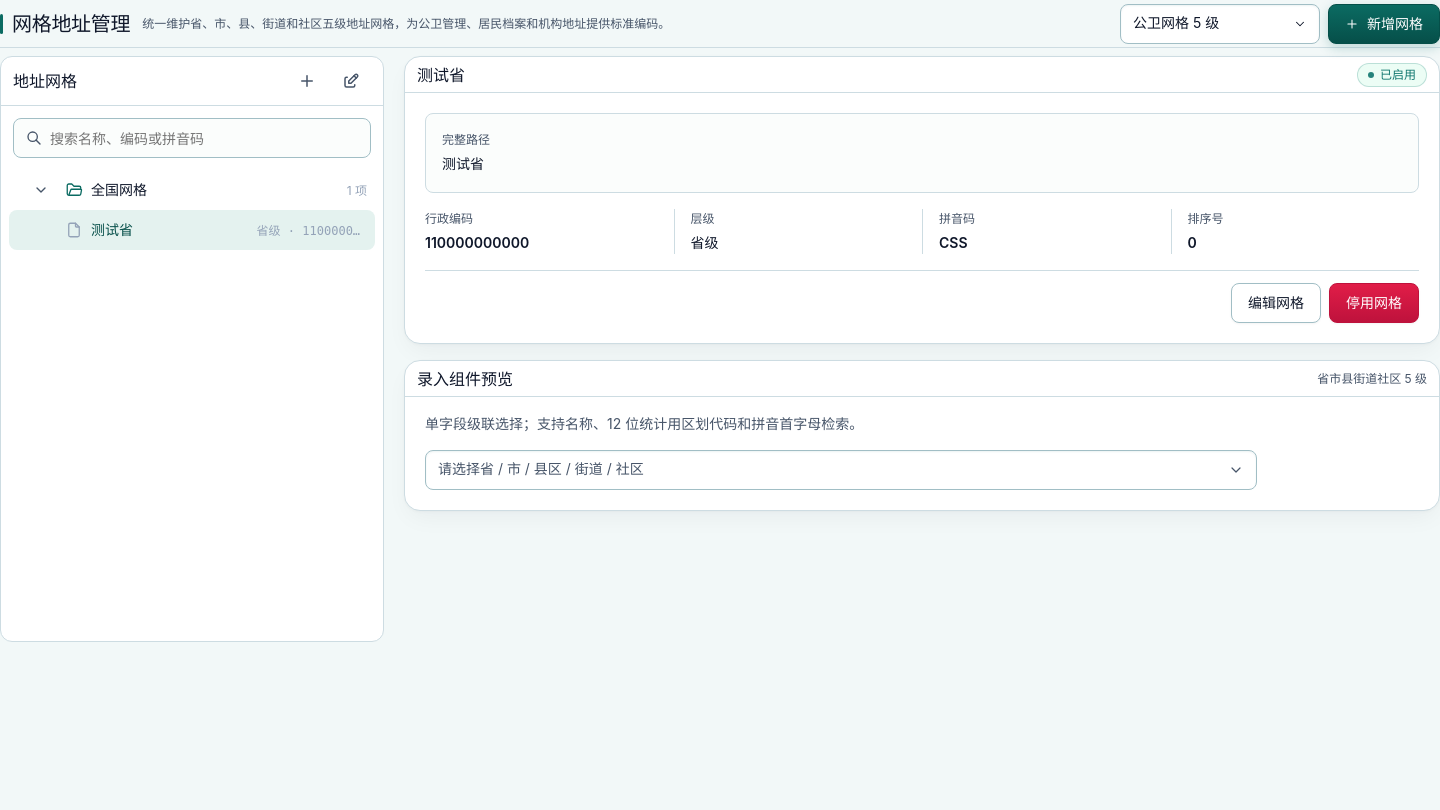
it: grid address management verification › keeps stale update responses unconfirmed and preserves the editor
This screenshot has width=1440, height=810.
Click the button "编辑网格" at coordinates (1276, 303), box [1231, 283, 1321, 323]
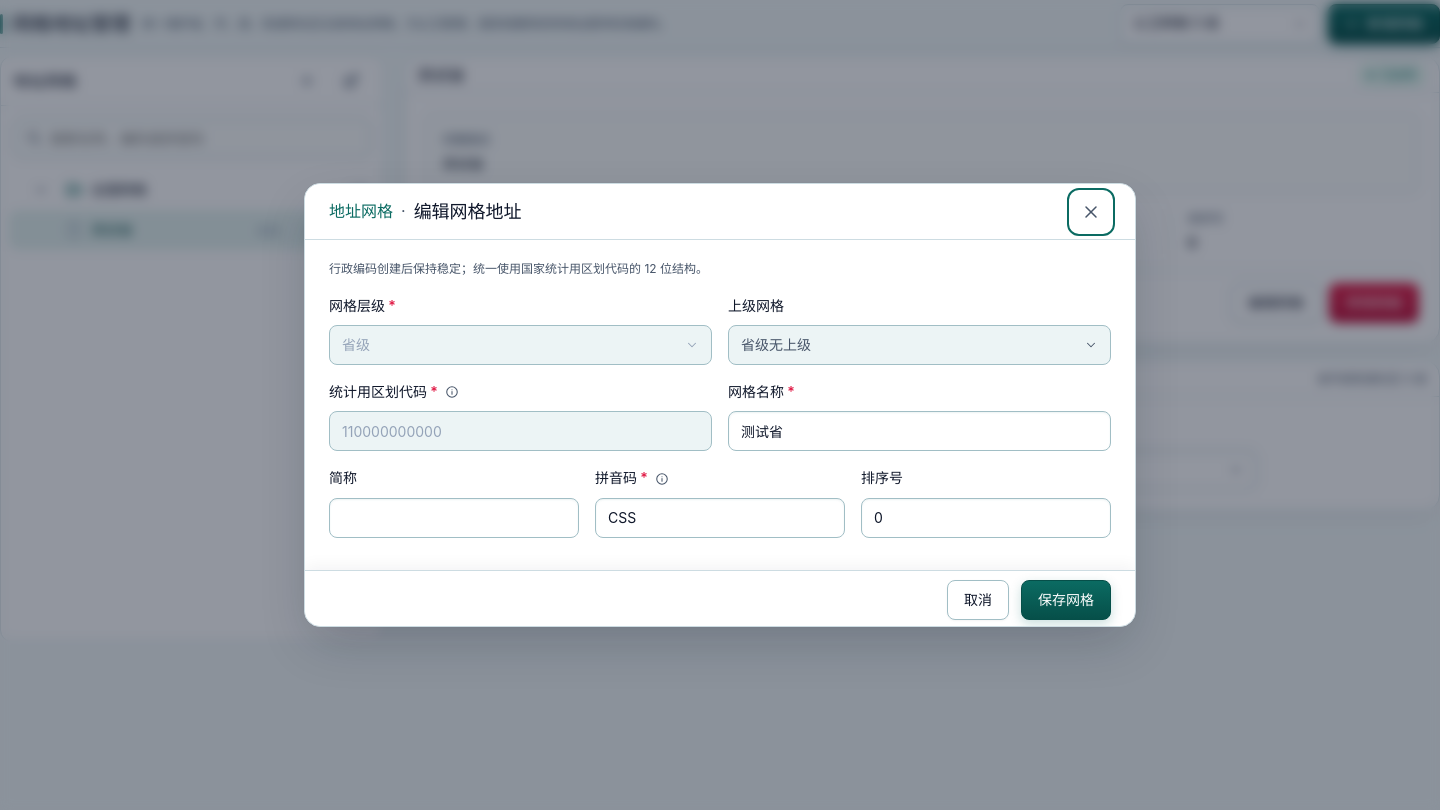
Replace the text in the field labelled "网格名称*" with "草稿省名" at coordinates (920, 432), box [728, 412, 1111, 452]
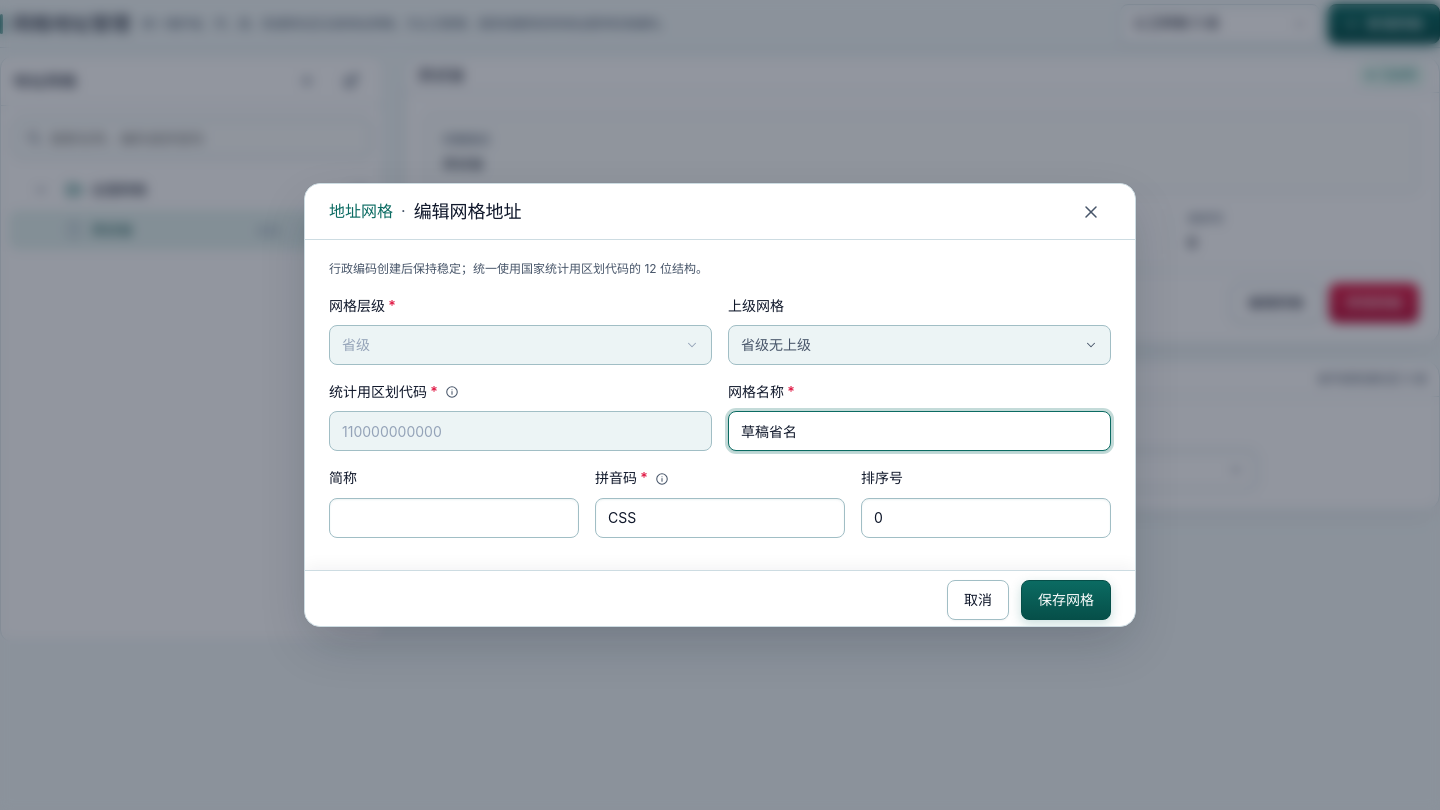
Click the button "保存网格" at coordinates (1066, 600), box [1021, 580, 1111, 620]
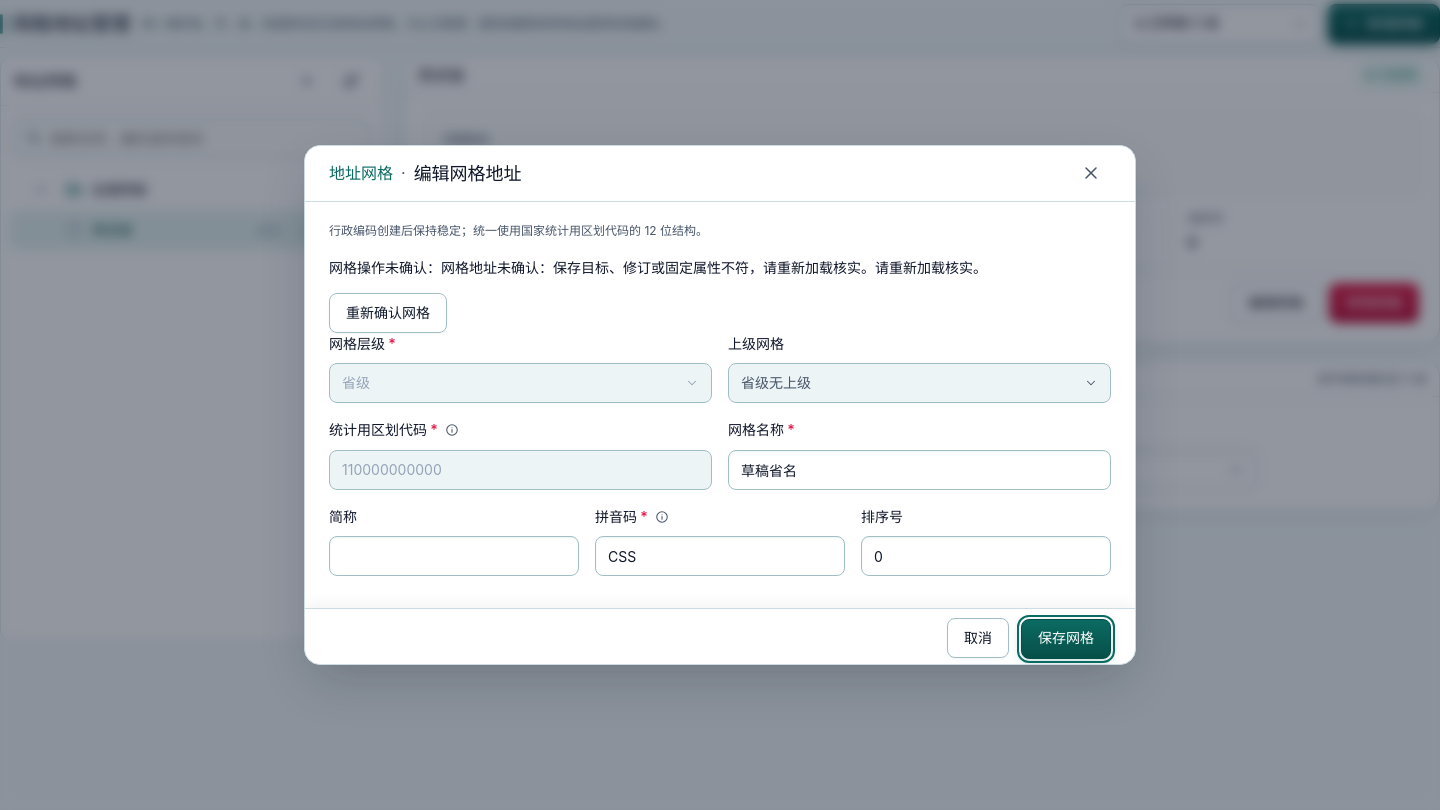
Expected: the message shows "保存目标、修订或固定属性不符", [329, 258, 987, 276]
